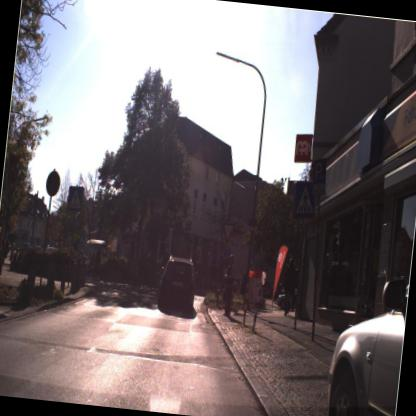mandatory: (292, 174, 315, 222), (64, 184, 86, 214), (217, 242, 234, 264)
other: (218, 216, 238, 244)
